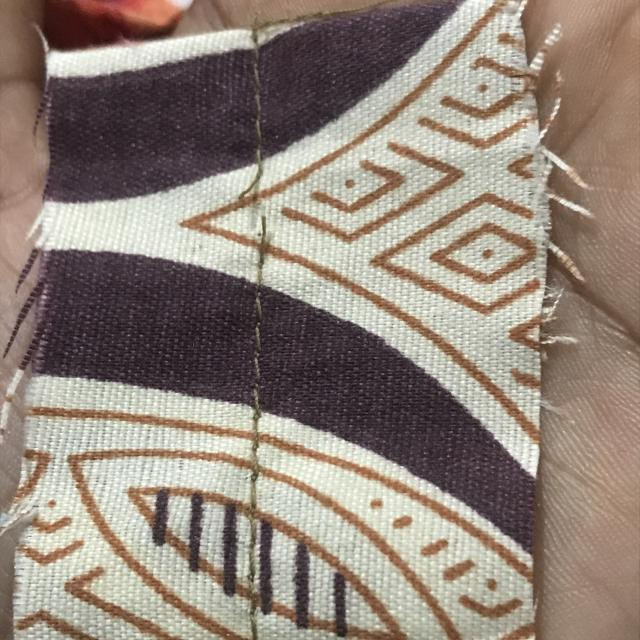broken: (234, 146, 275, 256)
good: (242, 293, 273, 409)
